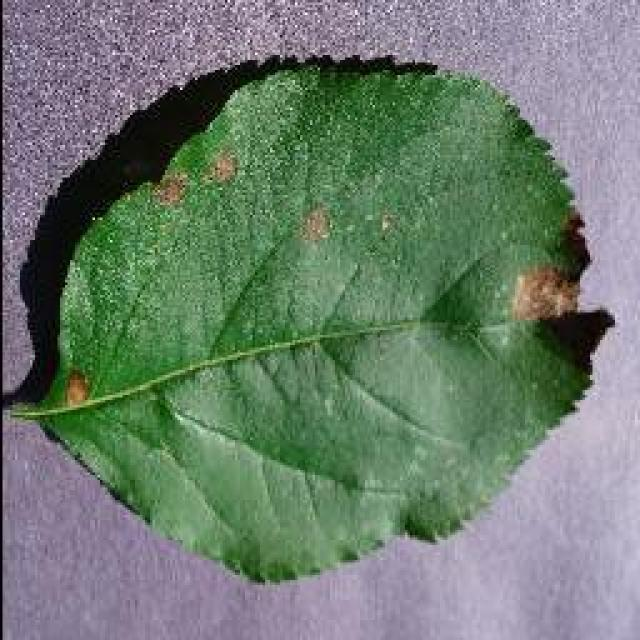apple black rot: (8, 50, 612, 582)
